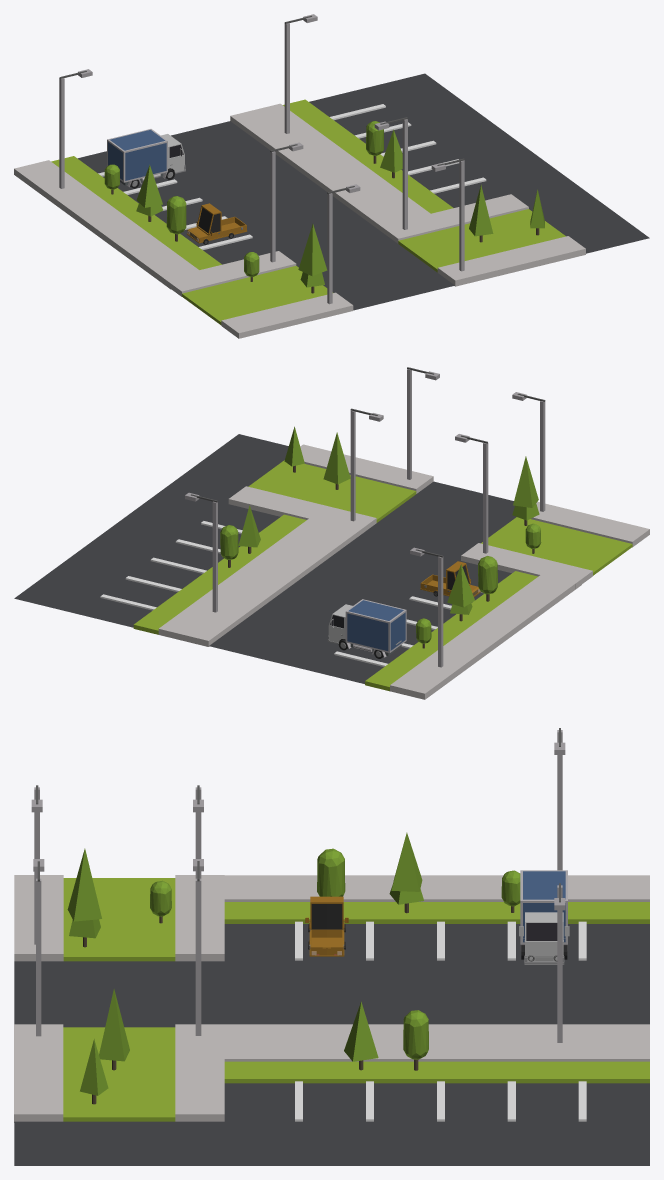
The model's file is ParkingLot.gltf.
3 renders of one model, top to bottom at view 1: azimuth 30°, elevation 25°; view 2: azimuth 150°, elevation 25°; view 3: azimuth 270°, elevation 25°, orthographic. The views are drawn at different scales.
Parts seen in each view (by area): view 1: node-0; view 2: node-0; view 3: node-0.
Part boxes in pixels (x1=…): node-0: x1=14, y1=14, x2=649, y2=338; node-0: x1=14, y1=367, x2=649, y2=699; node-0: x1=14, y1=728, x2=649, y2=1165.
Size of the model in its own units: 4.1 by 1.12 by 3.89.
